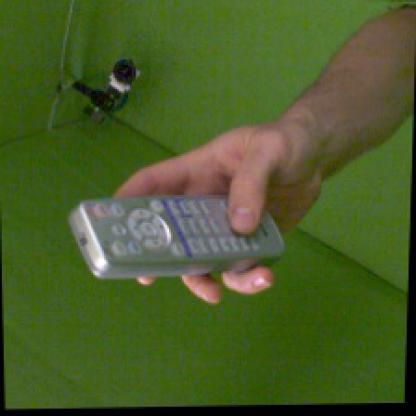Hand: (104, 122, 321, 302)
